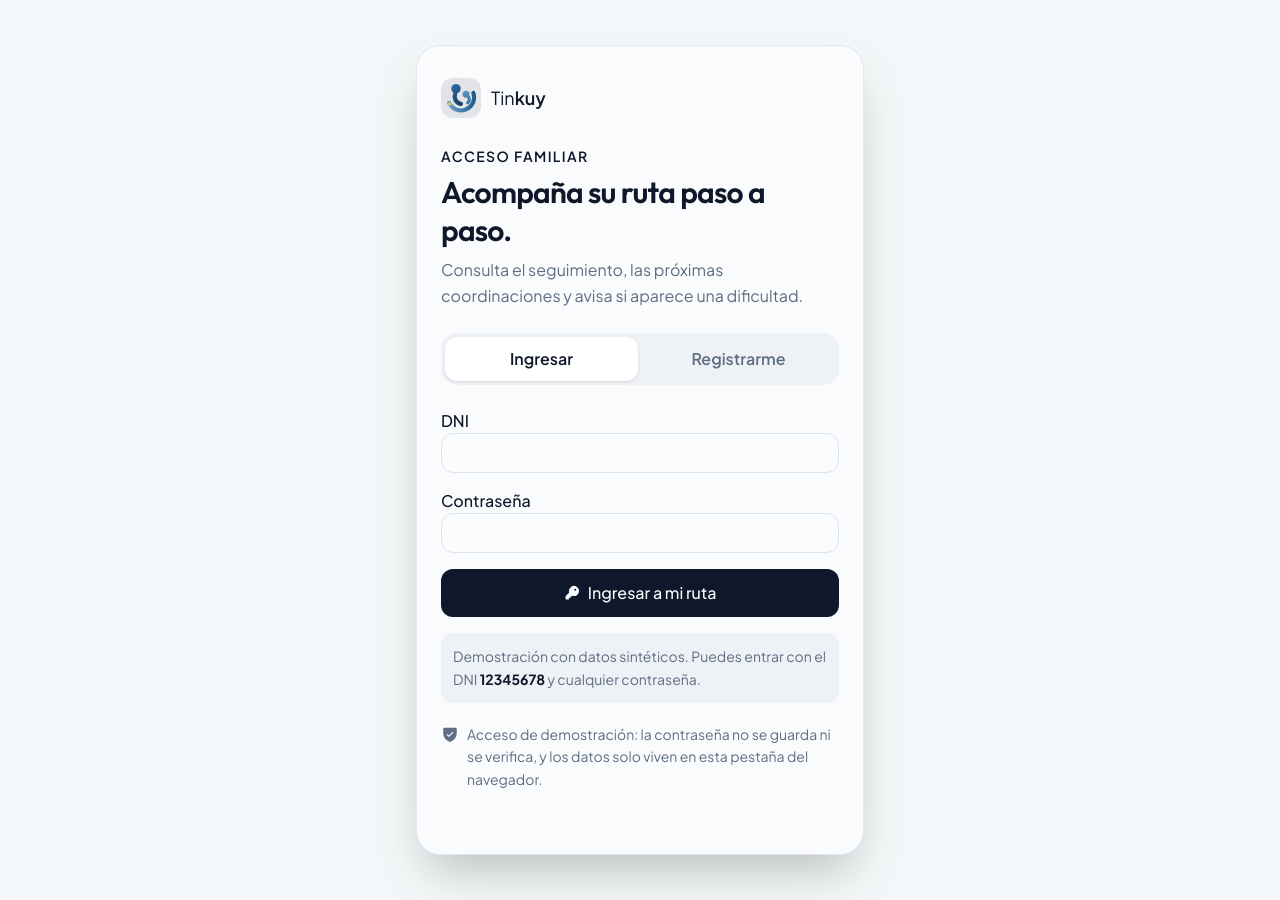
Test case: FamilyAccessPage › ofrece los cinco tipos de seguro de la libreta CRED
Click the tab "Registrarme".
click(738, 359)  # box [642,337,835,381]
(page scrolled)
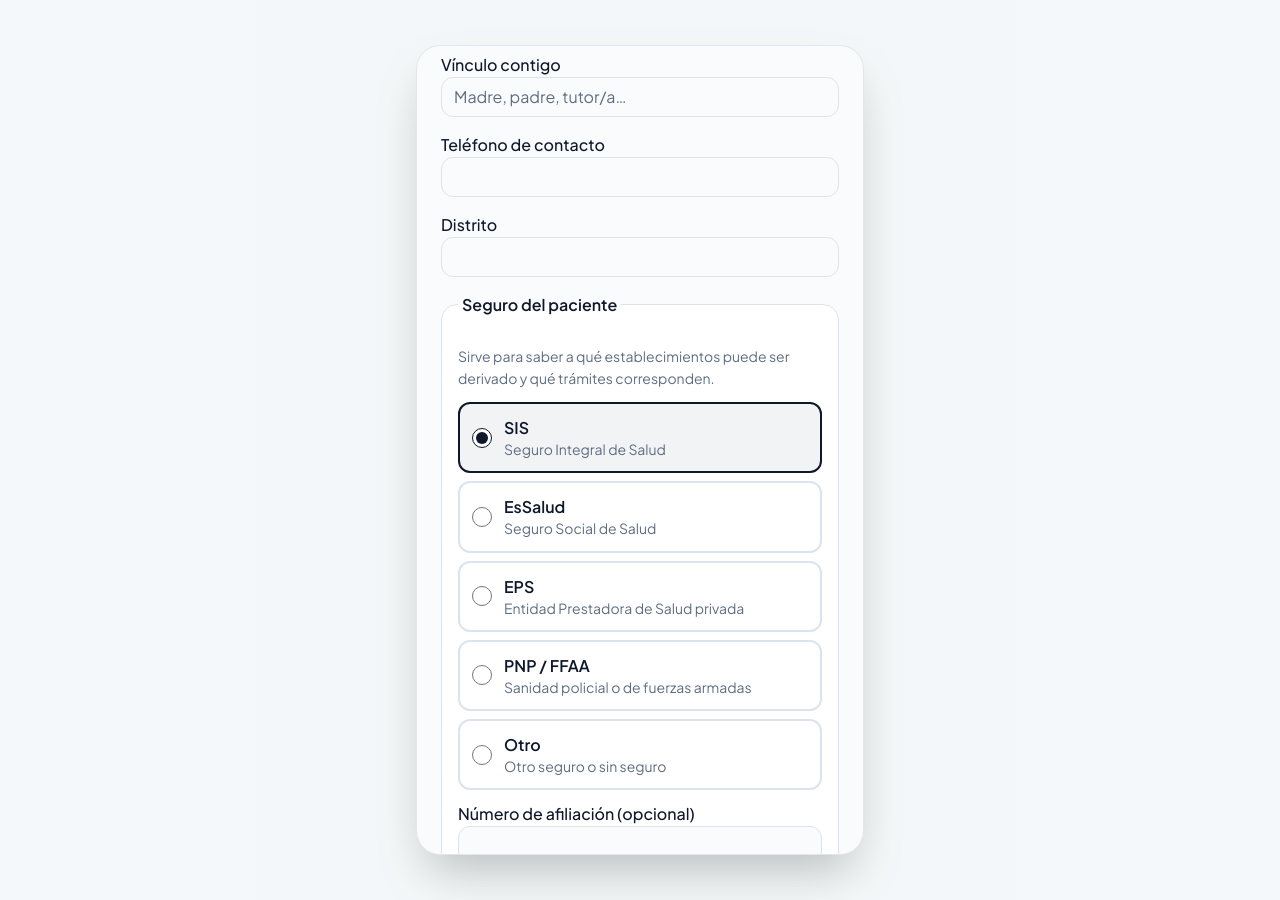
Result: the radio button labelled "SIS Seguro Integral de Salud" is shown at [472,428,492,448]
Result: the radio button labelled "EsSalud Seguro Social de Salud" is shown at [472,507,492,527]
Result: the radio button labelled "EPS Entidad Prestadora de Salud privada" is shown at [472,586,492,606]
